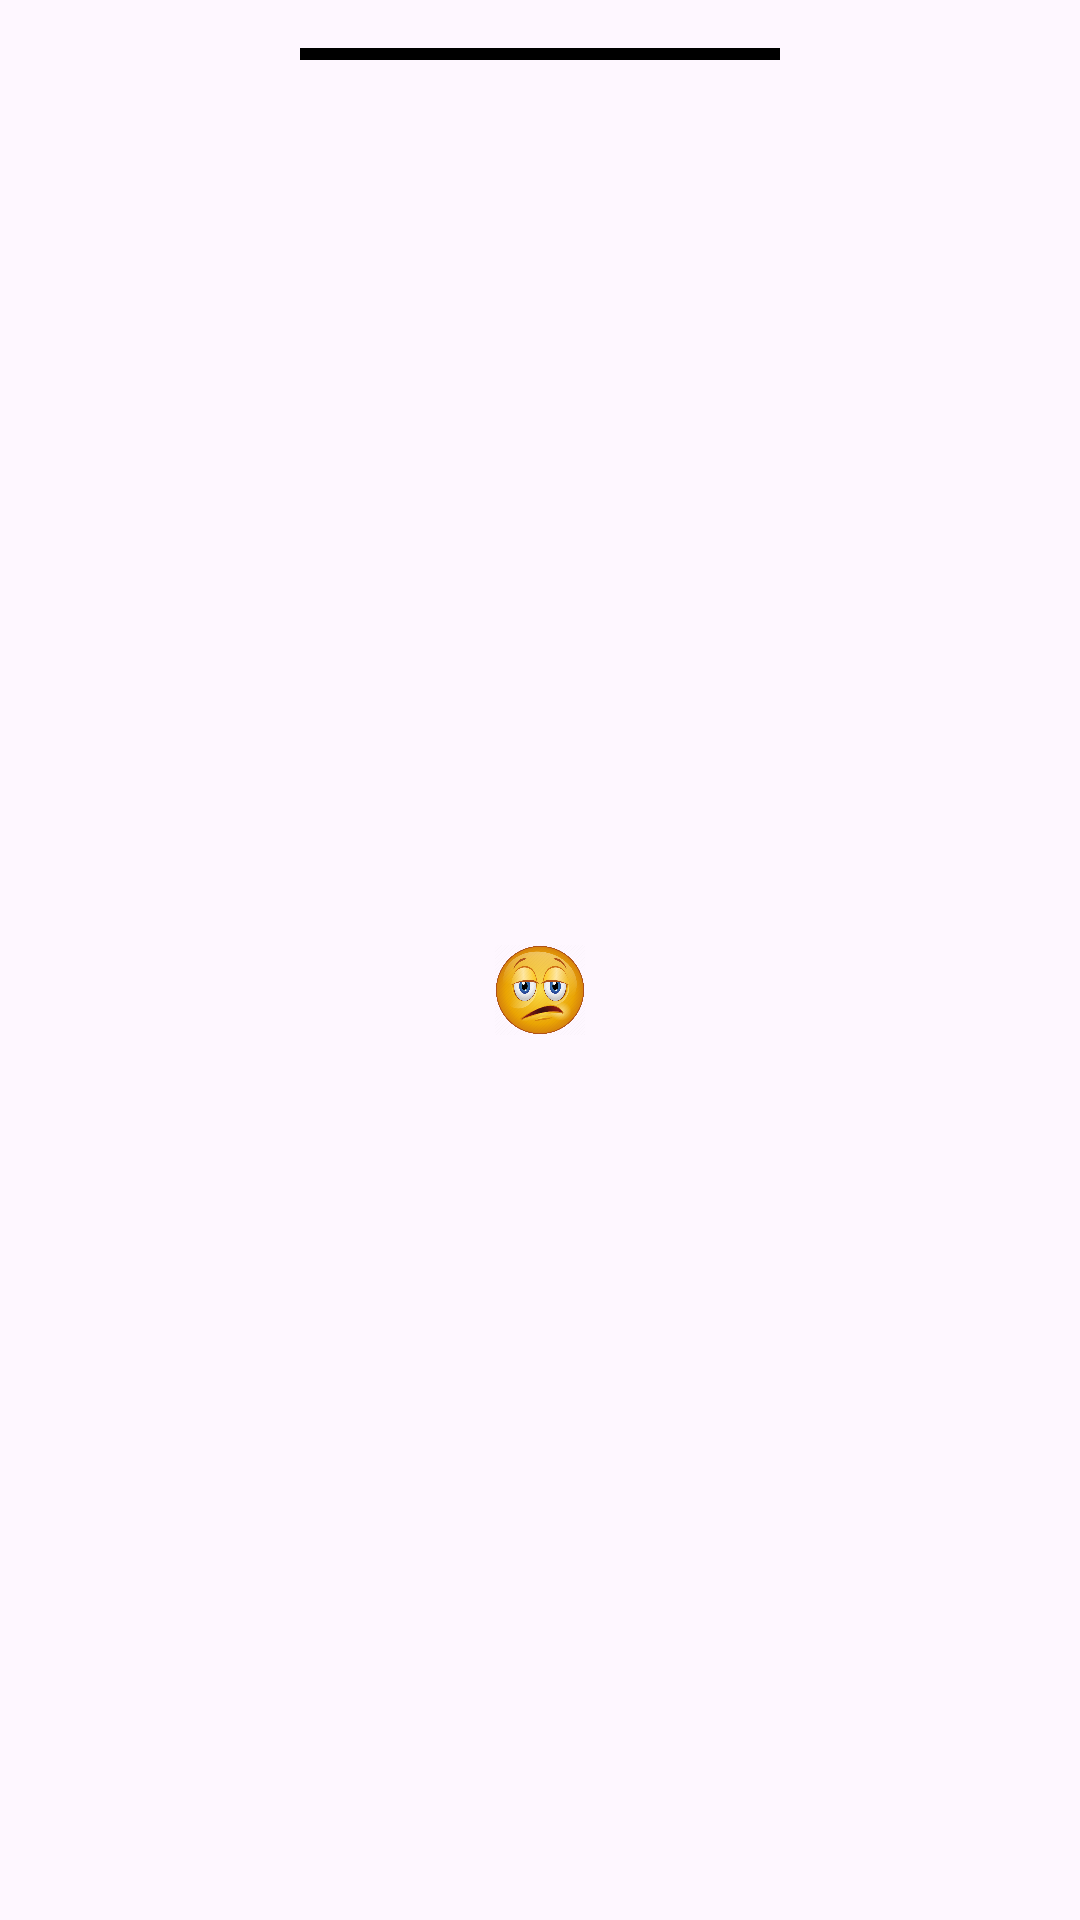

Icons on this 1080*1920 Android screen, each with the point to tap as (x,y):
boring: (540,990)
